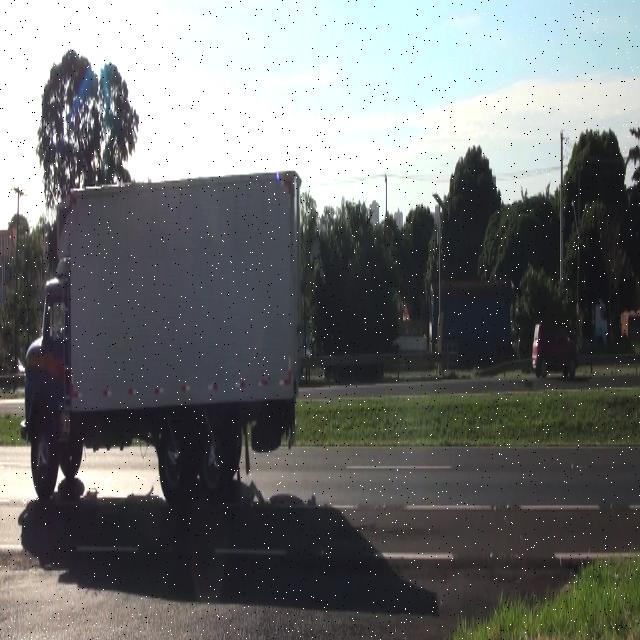-axle: (199, 412, 230, 504), (158, 418, 188, 509), (28, 422, 57, 506)
